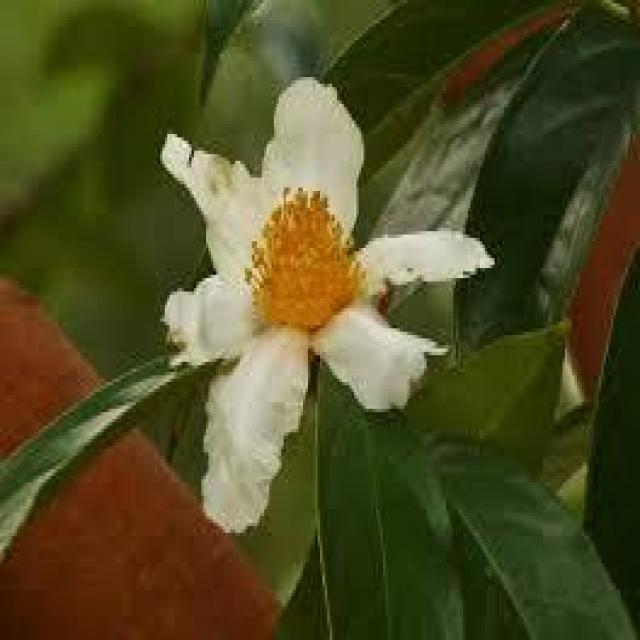organic waste: (148, 92, 477, 501)
